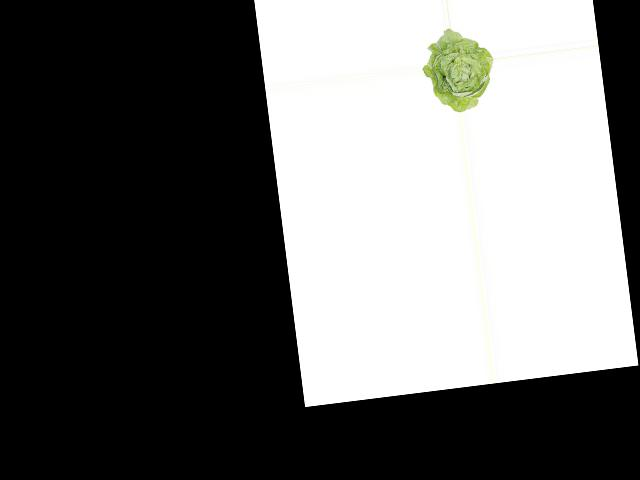lettuce: (418, 26, 498, 116)
